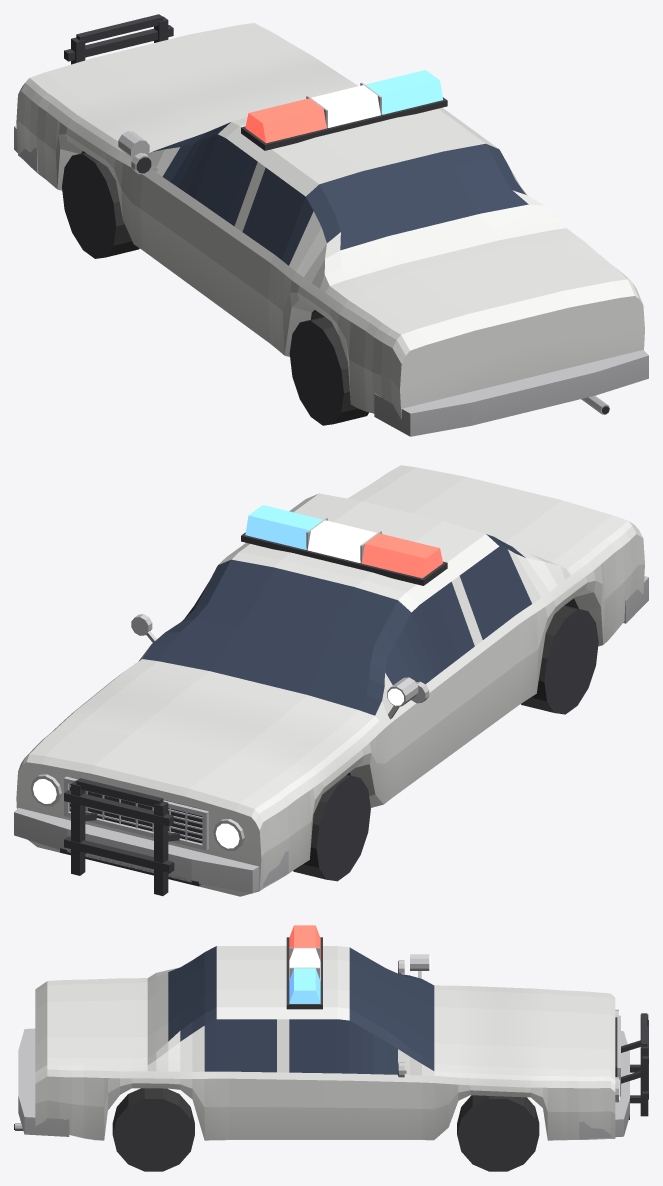
Rendered from cavalier.glb.
3 renders of one model, top to bottom at view 1: azimuth 30°, elevation 25°; view 2: azimuth 150°, elevation 25°; view 3: azimuth 270°, elevation 25°, orthographic. The views are drawn at different scales.
Visible parts, largest first — view 1: Body, Bumper_R, LightBar, Wheel_RL, Wheel_FL, PushBar; view 2: Body, LightBar, Bumper_F, PushBar, Wheel_RL, Wheel_FL, Spotlight; view 3: Body, Wheel_RR, Wheel_FR, LightBar, Bumper_R, PushBar, Bumper_F, Spotlight.
Part boxes in pixels (x1,y1,x2,y2): Body: [16, 23, 644, 419]; Bumper_R: [374, 350, 648, 436]; LightBar: [241, 70, 447, 150]; Wheel_RL: [289, 316, 368, 425]; Wheel_FL: [62, 152, 139, 258]; PushBar: [64, 14, 173, 64]; Body: [16, 465, 644, 896]; LightBar: [241, 505, 447, 585]; Bumper_F: [14, 808, 288, 893]; PushBar: [64, 778, 180, 895]; Wheel_RL: [521, 605, 598, 714]; Wheel_FL: [293, 774, 370, 881]; Spotlight: [387, 677, 418, 719]; Body: [35, 946, 620, 1140]; Wheel_RR: [112, 1088, 194, 1171]; Wheel_FR: [457, 1095, 539, 1171]; LightBar: [286, 925, 322, 1009]; Bumper_R: [18, 1028, 69, 1136]; PushBar: [621, 1013, 648, 1116]; Bumper_F: [579, 1031, 629, 1138]; Spotlight: [410, 954, 430, 978].
Size of the model in its own units: 2.12 by 1.52 by 5.25.
